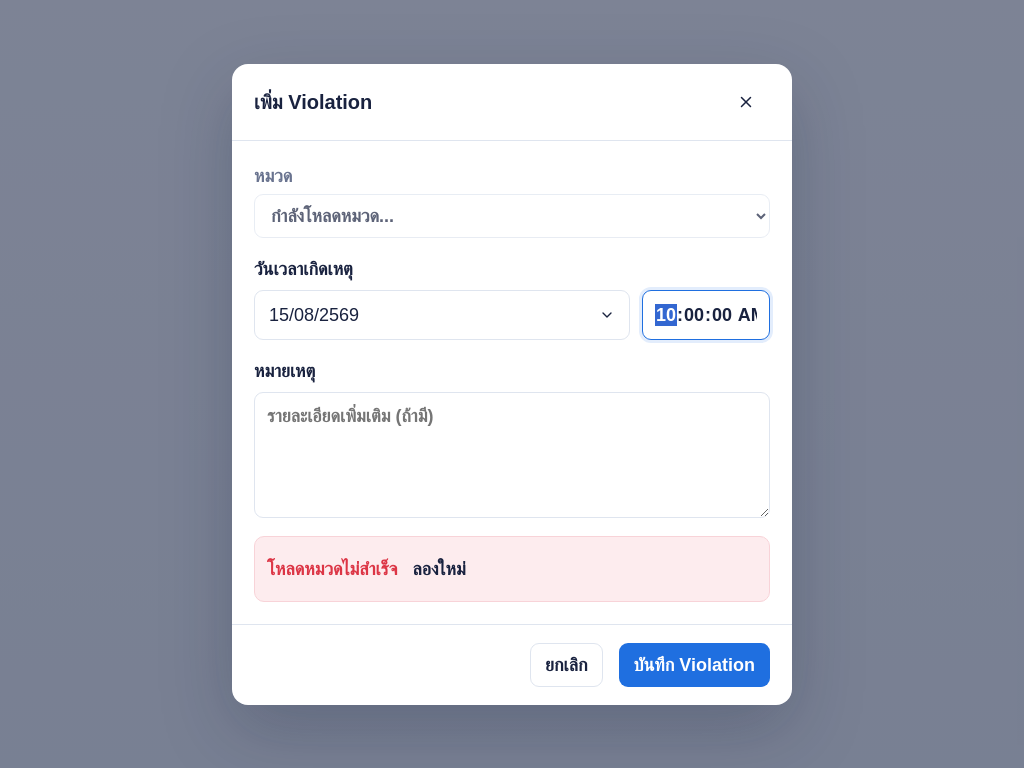
Test case: CreateViolationModal › lets the user retry loading categories
The width and height of the screenshot is (1024, 768).
Check: the text "โหลดหมวดไม่สำเร็จ" is shown, box 267,558 -> 398,578
Click the button "ลองใหม่" at (439, 568), box 398,546 -> 481,590
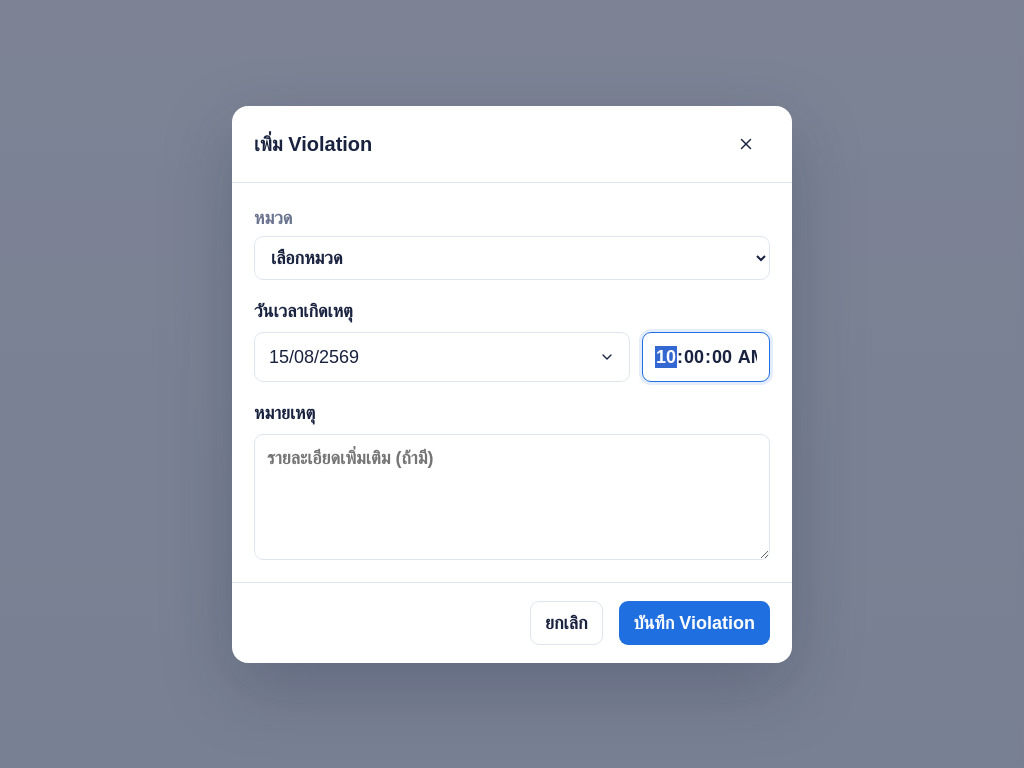
Check: the dropdown labelled "หมวด" is enabled, box 254,236 -> 770,280
